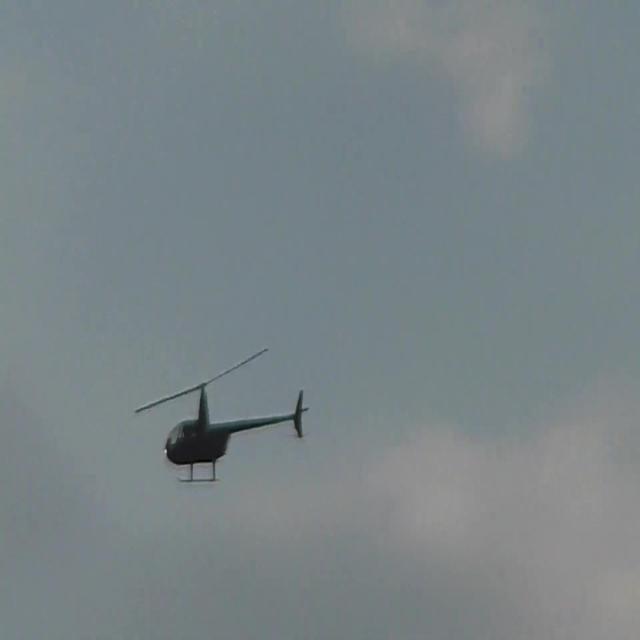CIV_HELO: (165, 381, 310, 486)
